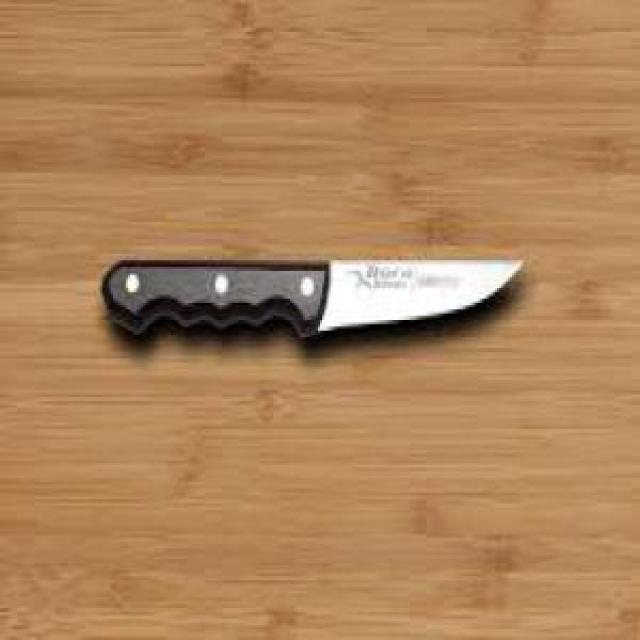knife: (100, 248, 544, 346)
